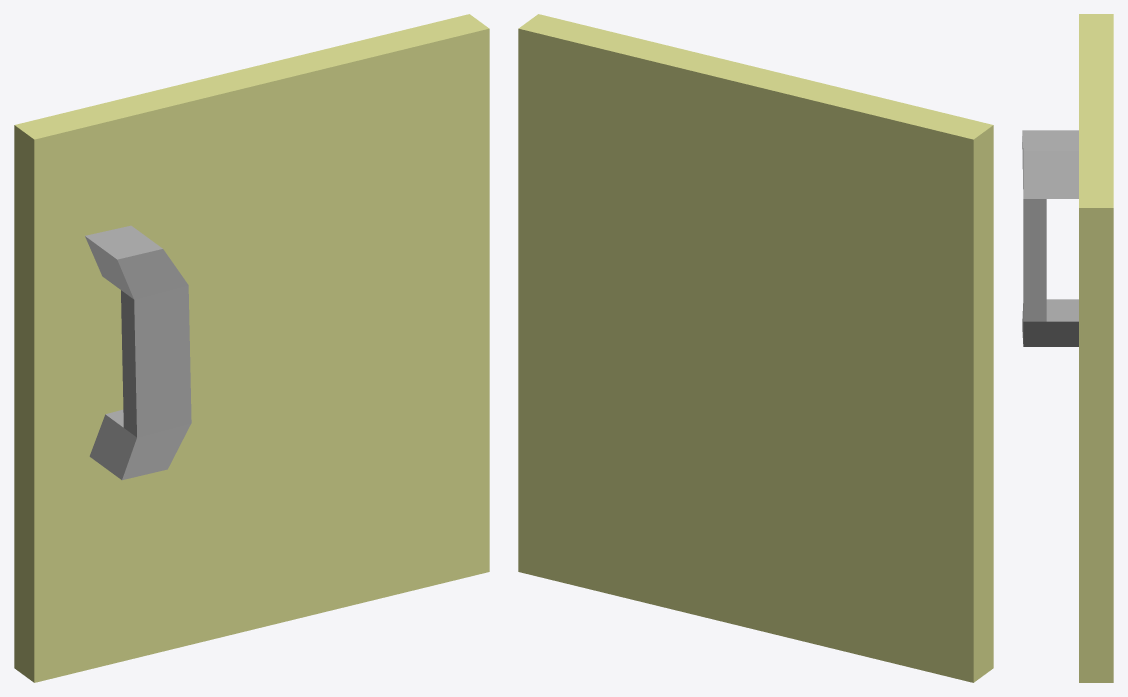
File: PuertaEncimeraDer.fbx
3 renders of one model, left to right at view 1: azimuth 30°, elevation 25°; view 2: azimuth 150°, elevation 25°; view 3: azimuth 270°, elevation 25°, orthographic. The views are drawn at different scales.
Visible parts, largest first — view 1: PuertaEnzimeraDer; view 2: PuertaEnzimeraDer; view 3: PuertaEnzimeraDer.
Boxes of the visible parts, x1,y1,x2,y2 form: PuertaEnzimeraDer: [14, 14, 489, 682]; PuertaEnzimeraDer: [518, 14, 993, 682]; PuertaEnzimeraDer: [1022, 14, 1113, 682].
Size of the model in its own units: 199 by 227 by 39.61.
